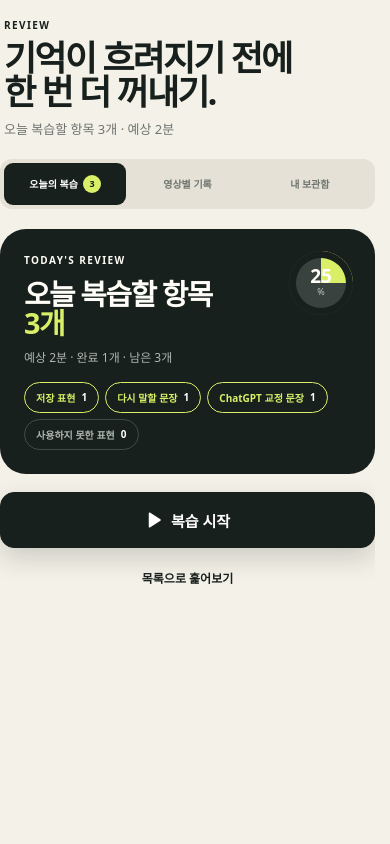
Test case: Editing a saved item › restores the shared meaning with 원래 뜻으로
Expected: the button "복습 시작" is shown, [0,492,375,548]
Step 1. Click the tab "내 보관함" → point(310, 184), box [249,163,371,205]
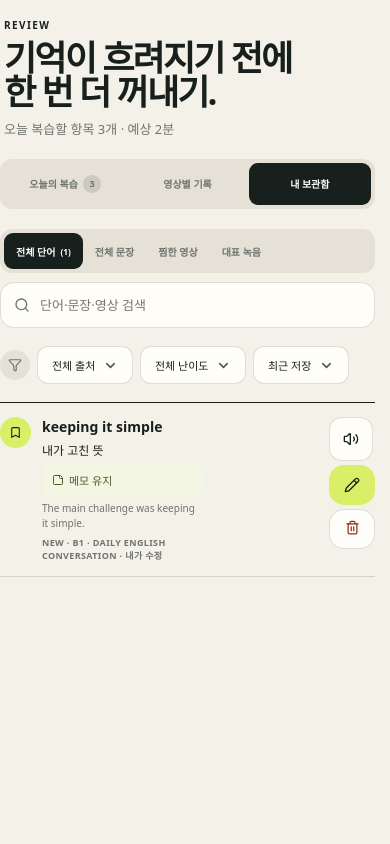
Now the text "내가 고친 뜻" is shown, box [42,441,104,458]
Step 2. Click the button named "keeping it simple 수정" → point(352, 485), box [329,465,375,505]
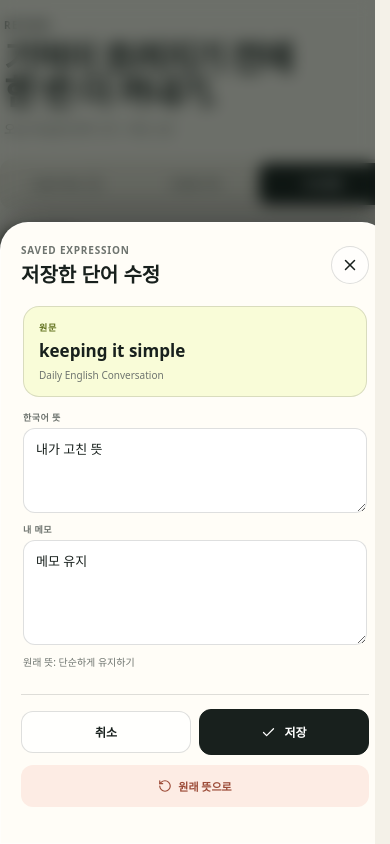
Now the text "원래 뜻: 단순하게 유지하기" is shown, box [23,655,135,669]
Step 3. Click the button "원래 뜻으로" → point(195, 786), box [21,765,369,807]
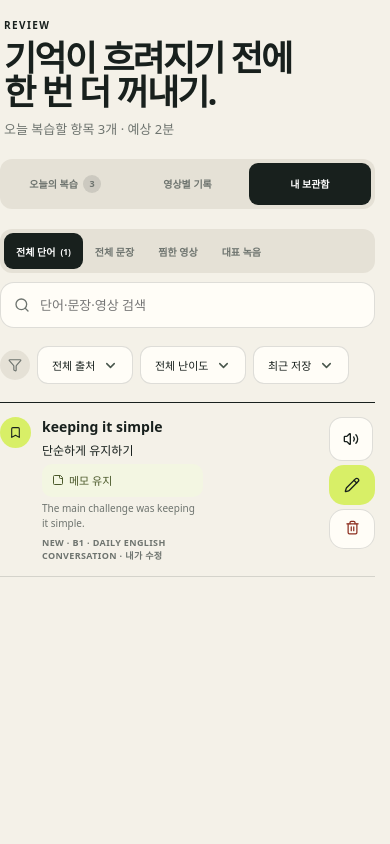
Now the text "단순하게 유지하기" is shown, box [42,441,134,458]
